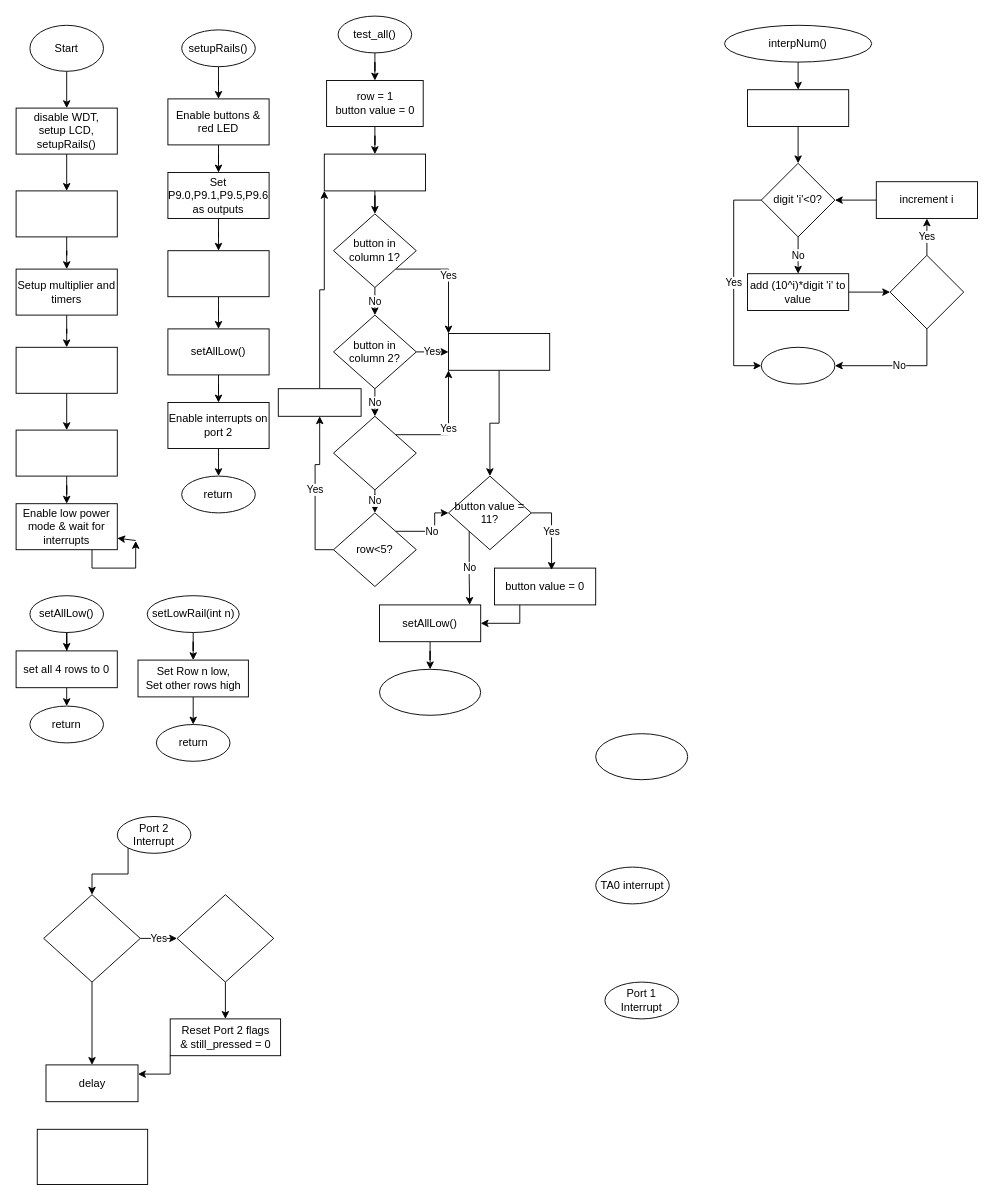
Image size: 994x1201. Some labels were removed from this diagram. The shapes that lost their labels are listed below. From the top down, each one's centre as x and y in pixels, then its label:
At [798,107]: "value = 0 i = 0".
At [374,172]: "setLowRail(row)".
At [66,213]: "Enable button interrupts".
At [218,273]: "Setup P2.0,P2.1,P2.2 as inputs".
At [926,291]: "i<3?".
At [66,369]: "Activate interrupts".
At [499,351]: "button value = 3*(row-1) + column".
At [797,365]: "return value".
At [319,402]: "increment row".
At [66,452]: "display instructions on LCD".
At [374,452]: "button in column 3?".
At [430,691]: "return button value".
At [641,756]: "LCD_Multiply()".
At [91,938]: "Is a button still pressed?".
At [225,938]: "Is a P2 pin low?".
At [92,1156]: "btn_pressed = test_all()".
